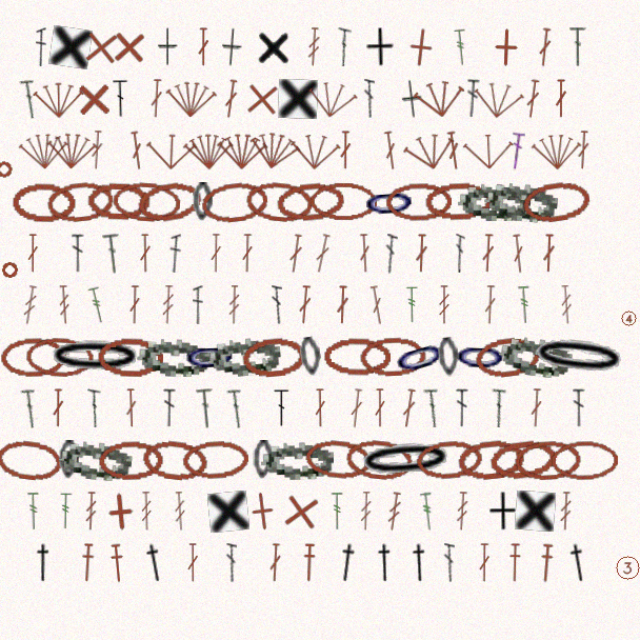chain: (521, 328, 617, 374), (357, 427, 452, 471), (63, 332, 156, 370), (491, 328, 564, 373), (478, 182, 550, 225), (215, 329, 287, 372), (147, 181, 214, 227), (513, 181, 581, 226), (388, 326, 448, 376), (13, 427, 81, 471), (74, 428, 145, 470), (208, 182, 275, 226), (468, 329, 535, 373), (152, 427, 219, 471), (482, 427, 549, 471), (62, 182, 129, 225), (346, 427, 413, 470), (251, 182, 317, 225), (307, 427, 373, 470), (452, 427, 518, 470), (280, 183, 347, 225), (413, 428, 479, 470), (247, 330, 312, 372), (125, 183, 191, 224), (149, 332, 219, 370), (43, 331, 109, 371), (267, 430, 336, 468), (191, 429, 256, 469), (507, 429, 572, 469), (454, 185, 523, 222), (422, 184, 487, 223), (360, 331, 425, 370), (19, 332, 83, 370), (326, 332, 390, 370), (542, 430, 606, 468), (101, 184, 163, 223), (385, 185, 448, 223), (111, 332, 174, 370), (112, 430, 175, 468), (313, 185, 377, 222), (30, 185, 92, 223), (362, 184, 416, 224), (192, 331, 245, 370), (449, 331, 502, 370), (302, 331, 326, 370), (434, 332, 456, 370), (259, 430, 279, 467), (202, 185, 221, 222), (75, 430, 94, 467)
double: (116, 234, 136, 272), (316, 234, 335, 272), (205, 381, 224, 419), (37, 87, 55, 125), (368, 283, 386, 321), (230, 87, 247, 125), (38, 381, 55, 419), (234, 381, 251, 419), (399, 381, 416, 419), (517, 87, 533, 125), (141, 136, 157, 174), (382, 136, 398, 174), (442, 136, 458, 174), (502, 136, 518, 174), (292, 234, 308, 272), (560, 38, 576, 75), (421, 381, 437, 418), (484, 381, 500, 418), (529, 38, 544, 76), (382, 234, 397, 272), (504, 234, 519, 272), (350, 381, 365, 419), (338, 38, 353, 75), (126, 87, 141, 124), (301, 283, 316, 320), (279, 381, 294, 418), (461, 87, 475, 124), (104, 136, 118, 173), (566, 136, 580, 173), (161, 87, 174, 124), (359, 234, 372, 271), (413, 234, 426, 271), (476, 234, 489, 271), (534, 234, 547, 271), (338, 283, 351, 320), (478, 283, 491, 320), (102, 381, 115, 418), (137, 381, 150, 418), (522, 381, 535, 418), (274, 528, 287, 565), (206, 38, 218, 75), (546, 87, 558, 124), (341, 136, 353, 173), (44, 234, 56, 271), (87, 234, 99, 271), (151, 234, 163, 271), (218, 234, 230, 271), (248, 234, 260, 271), (141, 283, 153, 320), (68, 381, 80, 418), (174, 381, 186, 418), (317, 381, 329, 418), (374, 381, 386, 418), (452, 381, 464, 418), (563, 381, 575, 418), (196, 528, 208, 565), (473, 528, 485, 565), (364, 87, 375, 124), (180, 234, 191, 271), (450, 234, 461, 271), (233, 528, 244, 565), (440, 528, 451, 565), (53, 38, 63, 75), (202, 283, 212, 320), (277, 283, 287, 320)
fan: (400, 132, 455, 178), (252, 132, 307, 177), (308, 84, 361, 127), (410, 84, 463, 127), (466, 85, 519, 127), (293, 135, 344, 175), (175, 86, 226, 125), (35, 135, 86, 174), (62, 135, 113, 174), (458, 135, 508, 174), (157, 136, 207, 174), (192, 136, 242, 174), (224, 136, 274, 174), (523, 136, 573, 174), (50, 87, 99, 125)
half_double: (153, 527, 179, 566), (336, 527, 362, 566), (556, 527, 581, 566), (49, 528, 71, 565), (374, 528, 395, 565), (407, 528, 428, 565), (122, 528, 139, 566), (530, 528, 546, 566), (94, 528, 110, 565), (305, 528, 320, 565), (501, 528, 515, 565)
noise: (602, 538, 629, 565), (12, 162, 33, 183), (18, 258, 38, 278), (607, 305, 626, 324)
single: (65, 36, 107, 78), (284, 477, 326, 519), (248, 477, 289, 518), (95, 37, 135, 77), (399, 37, 439, 77), (248, 86, 288, 126), (113, 478, 153, 518), (216, 478, 256, 518), (122, 37, 161, 76), (508, 478, 547, 517), (481, 38, 519, 76), (89, 87, 127, 125), (283, 87, 321, 125), (262, 38, 296, 75), (365, 38, 394, 75), (482, 479, 510, 516), (399, 87, 422, 125), (229, 38, 250, 76), (169, 38, 188, 75)
treble: (101, 283, 122, 321), (39, 283, 56, 321), (385, 479, 402, 517), (449, 38, 465, 76), (417, 479, 433, 517), (510, 283, 525, 320), (310, 38, 324, 75), (73, 283, 87, 320), (550, 283, 564, 320), (44, 479, 58, 516), (183, 479, 197, 516), (451, 479, 465, 516), (172, 283, 185, 320), (235, 283, 248, 320), (404, 283, 417, 320), (75, 479, 88, 516), (99, 479, 112, 516), (333, 479, 346, 516), (360, 479, 373, 516), (550, 479, 563, 516), (435, 283, 447, 320), (152, 479, 164, 516)
